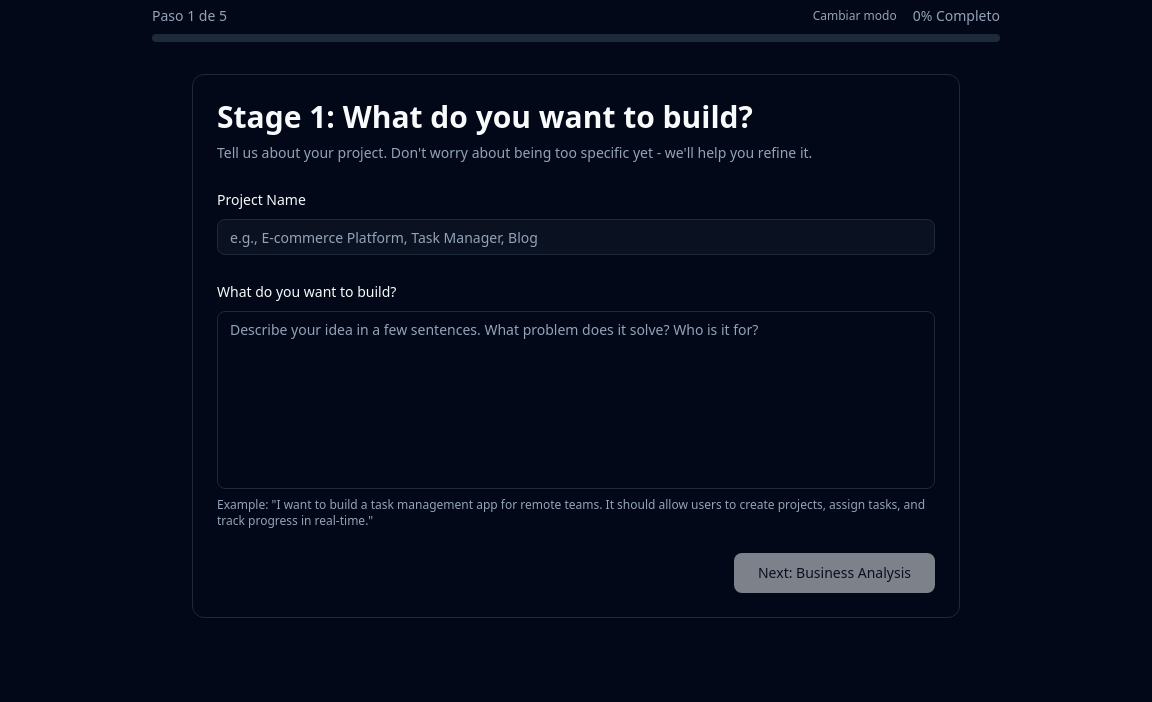
Scenario: WizardContainer › allows navigation back from Stage 2 to Stage 1
The width and height of the screenshot is (1152, 702).
Type "Test" into the field with placeholder "e.g., E-commerce Platform, Task Manager, Blog" at (576, 237), box [217, 219, 935, 255]
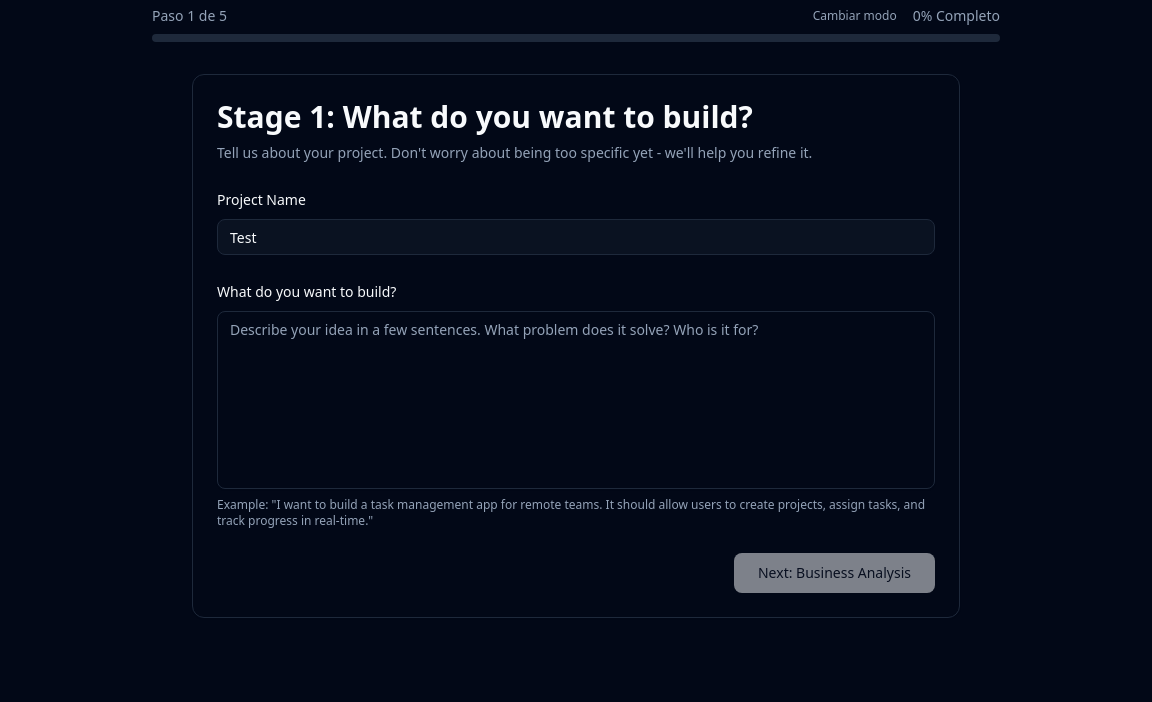
Replace the text in the text box with placeholder "Describe your idea" with "Test" at (576, 400), box [217, 311, 935, 489]
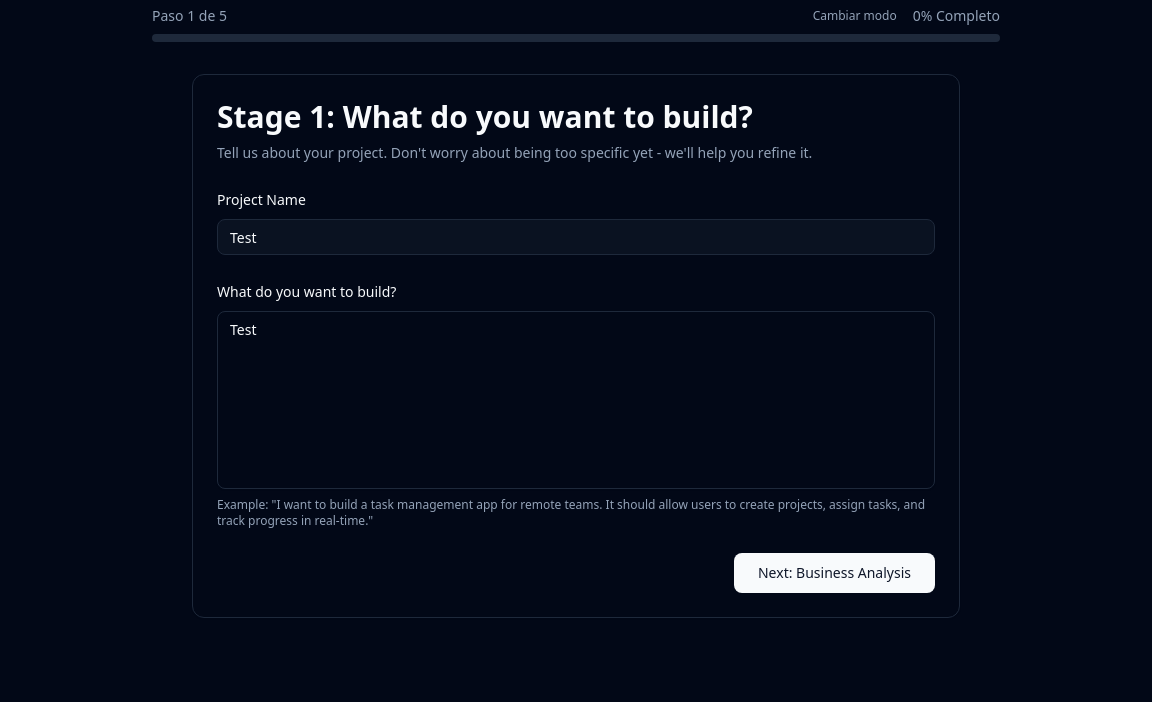
Click the button "Next: Business Analysis" at (834, 573), box [734, 553, 935, 593]
(page scrolled)
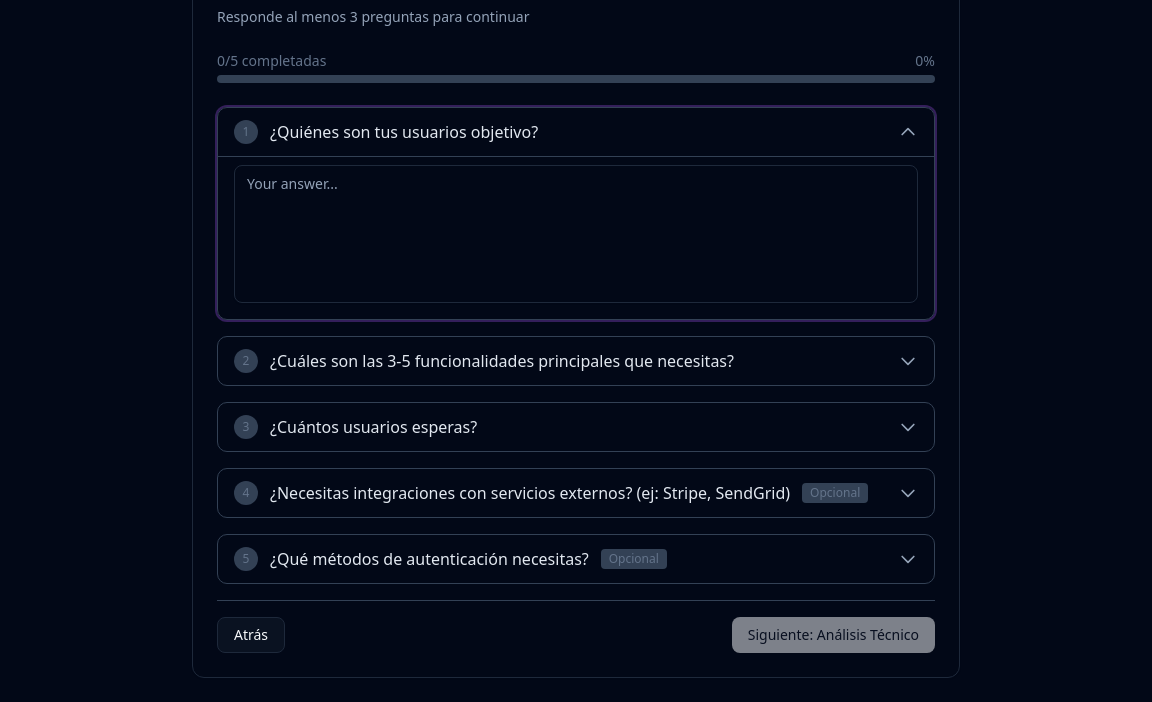
//  Go back
Click the button "Atrás" at (251, 635), box [217, 617, 285, 653]
(page scrolled)
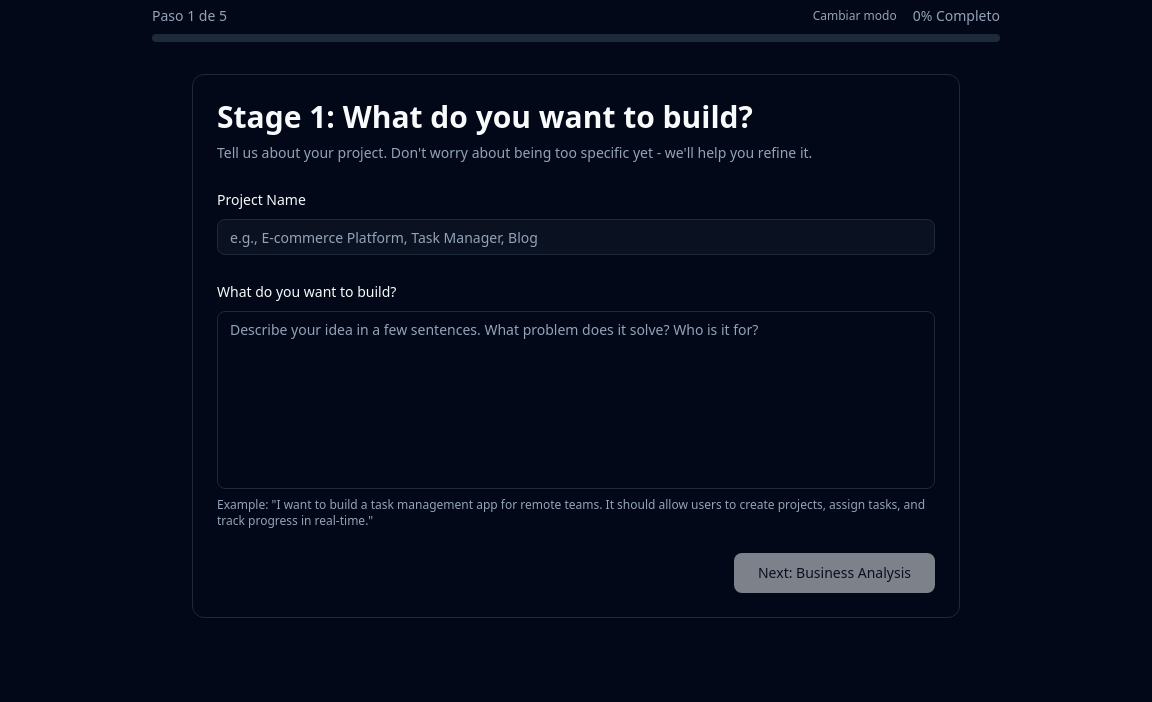
expect the text "Stage 1: What do you want to build?" is shown: met, box [217, 96, 753, 137]
